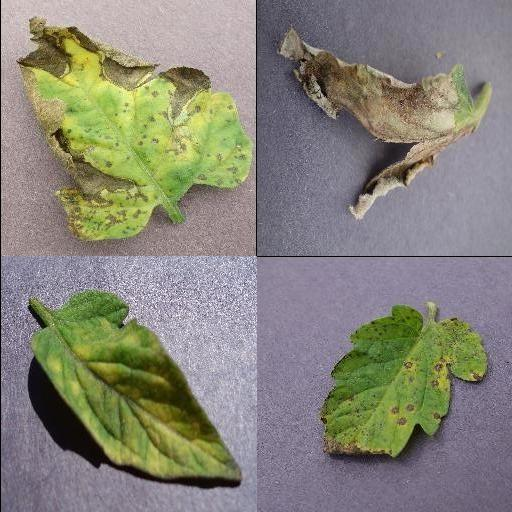Late Blight: (272, 25, 476, 221)
Leaf Mold: (26, 293, 242, 482)
Septoria: (19, 18, 255, 242), (317, 307, 485, 457)
